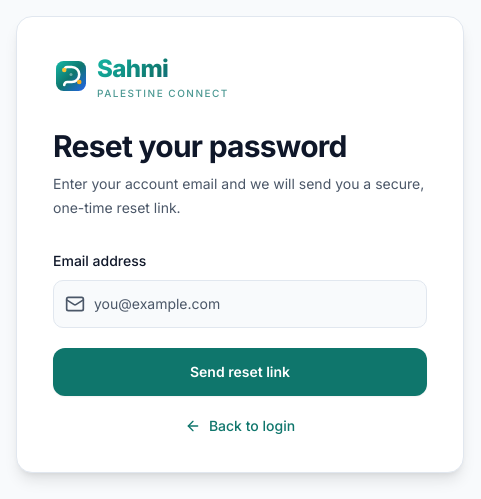
Scenario: password reset › requests a reset link without exposing account existence
Type "user@example.com" into the field labelled "Email address". click: (240, 304)
box: [53,280,427,328]
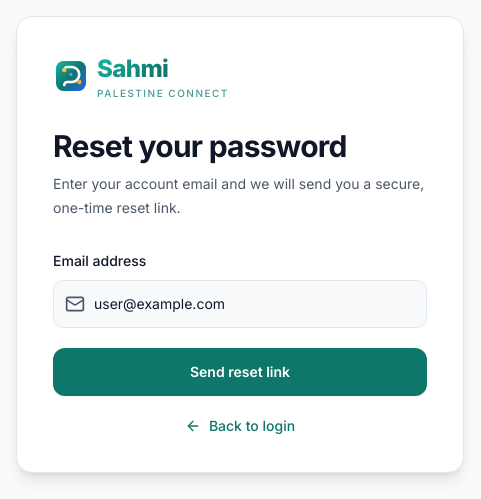
Click the button "Send reset link". click: (240, 372)
box: [53,348,427,396]
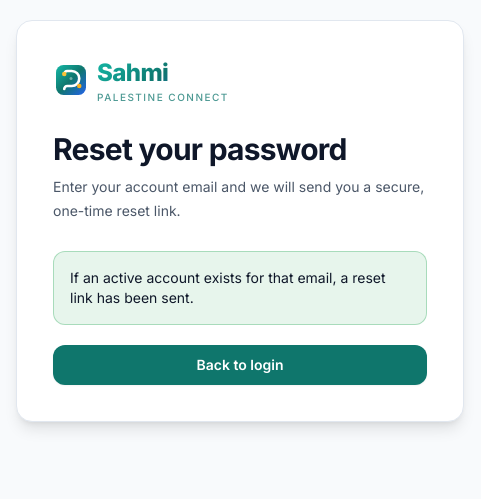
Expected: the text "If an active account exists" is shown, [70,269,386,306]
